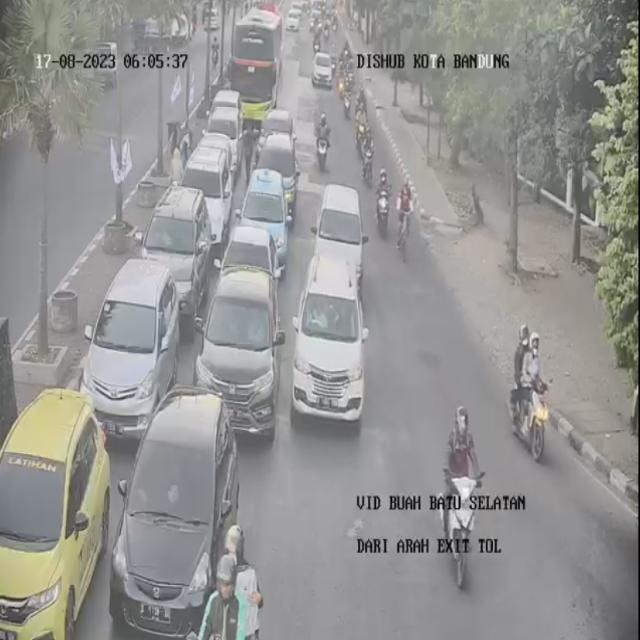bus: (232, 8, 285, 128)
cars: (120, 392, 249, 640), (0, 376, 110, 631), (85, 261, 185, 419), (197, 264, 282, 437), (290, 243, 362, 417), (153, 182, 212, 314), (318, 181, 367, 288), (182, 148, 231, 246), (241, 170, 287, 268), (215, 224, 283, 290), (257, 135, 298, 217), (200, 110, 246, 182), (261, 110, 295, 151), (311, 44, 335, 95), (211, 87, 242, 121), (284, 3, 300, 35)
motorcycle: (441, 400, 488, 590), (203, 524, 262, 640), (510, 325, 550, 460), (390, 166, 413, 258), (354, 118, 376, 186), (372, 164, 392, 238), (314, 110, 332, 175), (354, 89, 370, 137), (343, 76, 357, 118), (311, 24, 324, 53)
